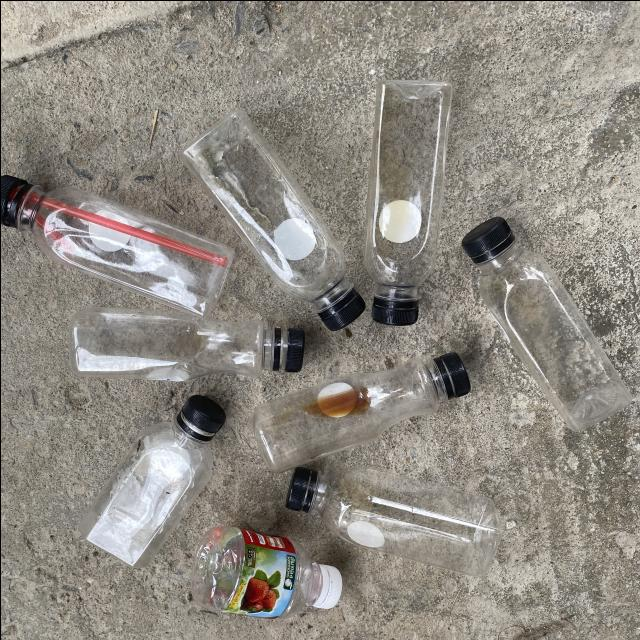plastik: (181, 111, 364, 330), (461, 216, 631, 430), (0, 174, 234, 316), (253, 352, 469, 472), (78, 394, 225, 566), (285, 467, 501, 576), (364, 79, 451, 325), (68, 307, 304, 380), (190, 525, 341, 618)
